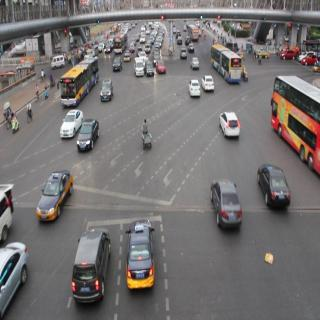BigCar: (271, 67, 320, 162), (57, 55, 100, 103), (208, 41, 242, 86)
Car: (72, 231, 110, 306), (124, 217, 157, 291), (0, 238, 29, 317), (38, 170, 78, 223), (254, 160, 290, 207), (210, 177, 241, 228), (55, 105, 87, 140), (77, 119, 100, 152), (217, 110, 242, 140), (187, 72, 202, 104), (153, 57, 170, 79), (50, 49, 67, 70), (100, 77, 112, 106), (255, 44, 273, 62), (131, 58, 145, 80), (110, 54, 124, 76), (114, 31, 128, 53), (203, 74, 216, 95), (303, 52, 318, 68), (145, 60, 156, 80), (281, 48, 296, 62), (188, 55, 202, 69), (188, 22, 198, 40), (179, 46, 189, 62), (186, 42, 198, 55), (124, 47, 132, 65), (184, 35, 194, 46), (104, 43, 113, 54), (136, 46, 144, 57), (174, 37, 184, 44), (128, 44, 135, 54), (140, 35, 146, 43), (176, 29, 181, 38), (145, 45, 150, 52)
